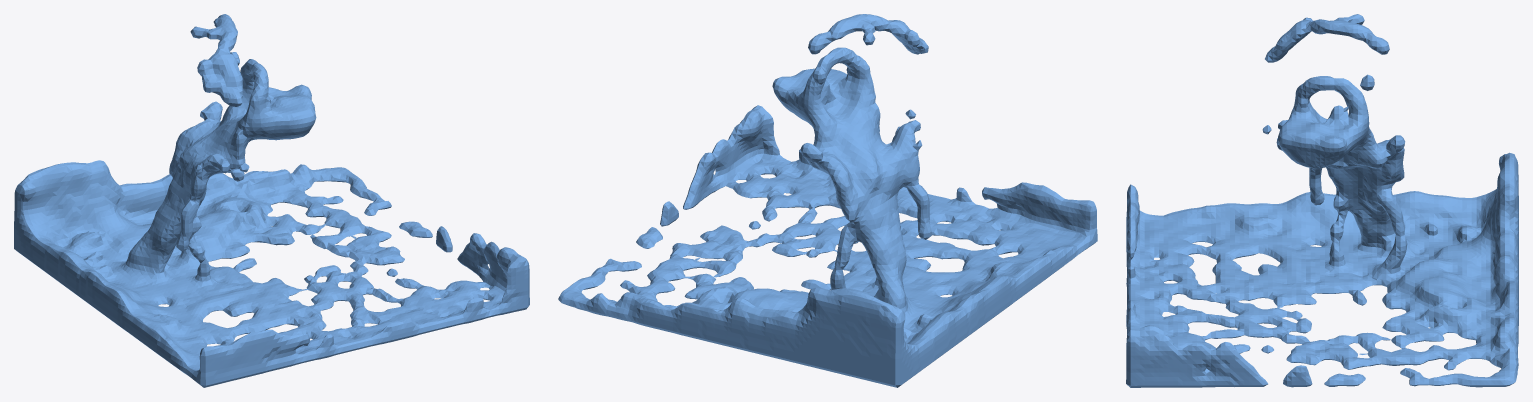
Rendered from water_0065.glb.
3 views of the same model, side by side, from view 1: azimuth 30°, elevation 25°; view 2: azimuth 150°, elevation 25°; view 3: azimuth 270°, elevation 25° (orthographic). The views are drawn at different scales.
Visible parts, largest first — view 1: Water_0065; view 2: Water_0065; view 3: Water_0065.
Boxes of the visible parts, bbox=[...] form: Water_0065: bbox=[14, 14, 529, 387]; Water_0065: bbox=[558, 14, 1097, 387]; Water_0065: bbox=[1126, 14, 1518, 387].
Size of the model in its own units: 4.83 by 3.63 by 4.83.
